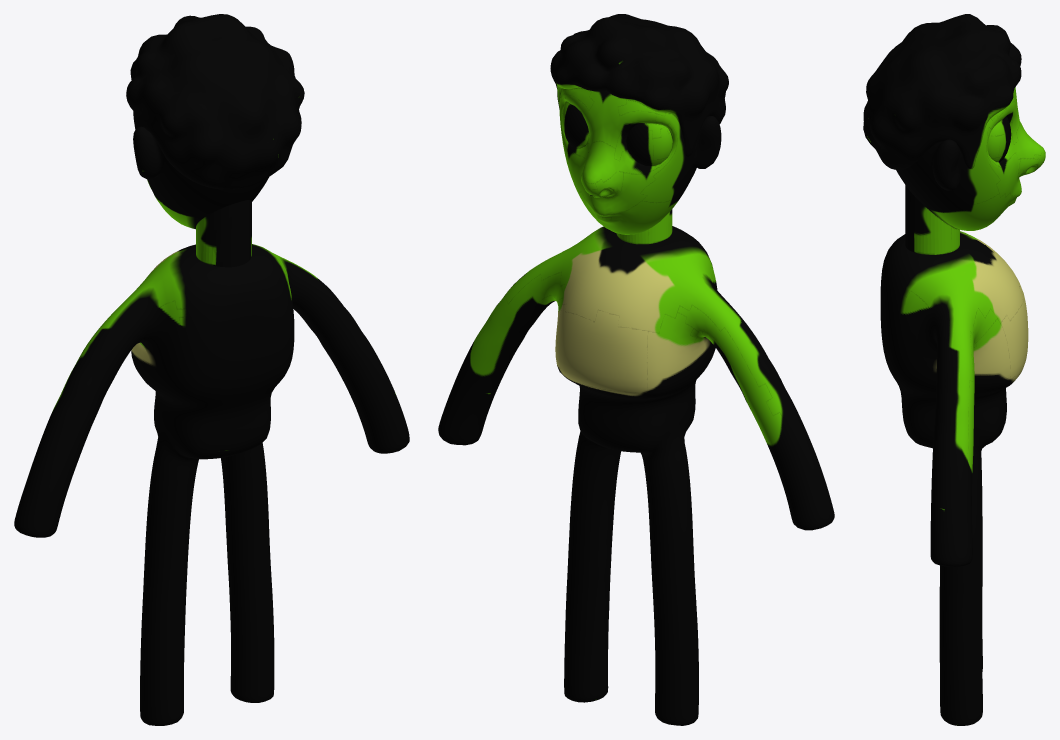
3 views of the same model, side by side, from view 1: azimuth 30°, elevation 25°; view 2: azimuth 150°, elevation 25°; view 3: azimuth 270°, elevation 25° (orthographic). The views are drawn at different scales.
Visible parts, largest first — view 1: Retopo_Cylinder; view 2: Retopo_Cylinder; view 3: Retopo_Cylinder.
Boxes of the visible parts, x1,y1,x2,y2 form: Retopo_Cylinder: [14, 14, 409, 725]; Retopo_Cylinder: [438, 14, 834, 725]; Retopo_Cylinder: [863, 14, 1045, 725].
Bounding box in the file's own units: 5.86 × 9.86 × 2.43.
1 material, 1 textured.
